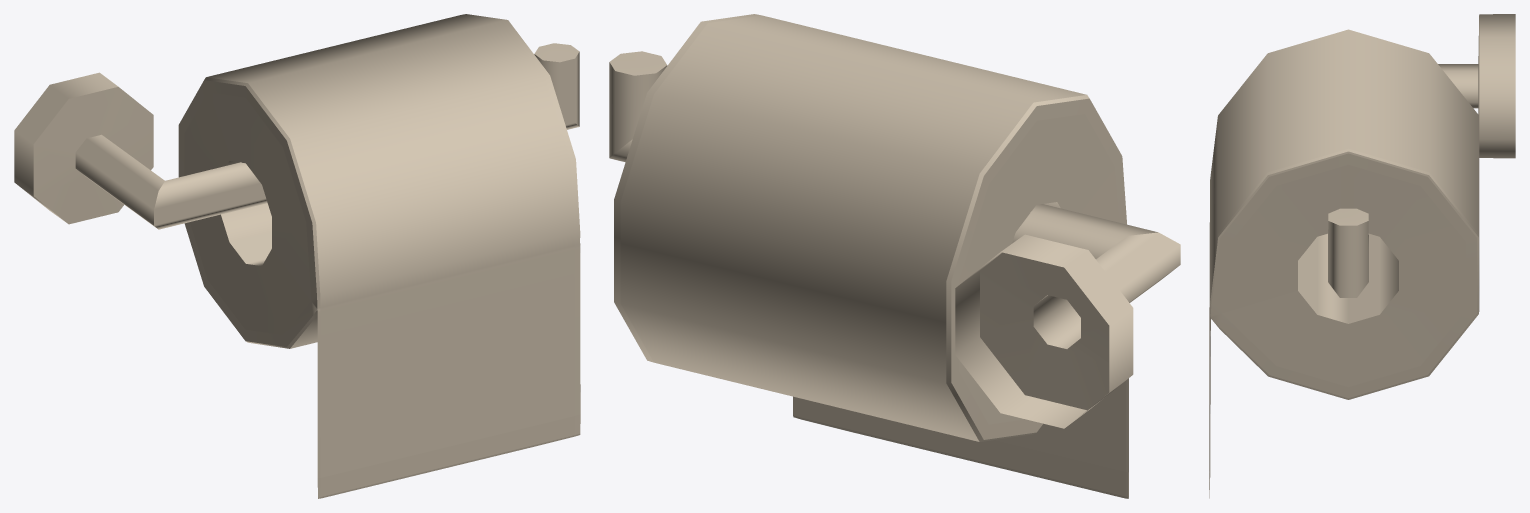
Rendered from toilet_paper_20_L.fbx.
3 views of the same model, side by side, from view 1: azimuth 30°, elevation 25°; view 2: azimuth 150°, elevation 25°; view 3: azimuth 270°, elevation 25° (orthographic). The views are drawn at different scales.
Parts seen in each view (by area): view 1: toilet_paper_20_L; view 2: toilet_paper_20_L; view 3: toilet_paper_20_L.
Part boxes in pixels (<box>): toilet_paper_20_L: <box>14,14,580,498</box>; toilet_paper_20_L: <box>609,14,1180,498</box>; toilet_paper_20_L: <box>1209,14,1515,498</box>.
Bounding box in the file's own units: 5.76 × 4.22 × 3.36.
